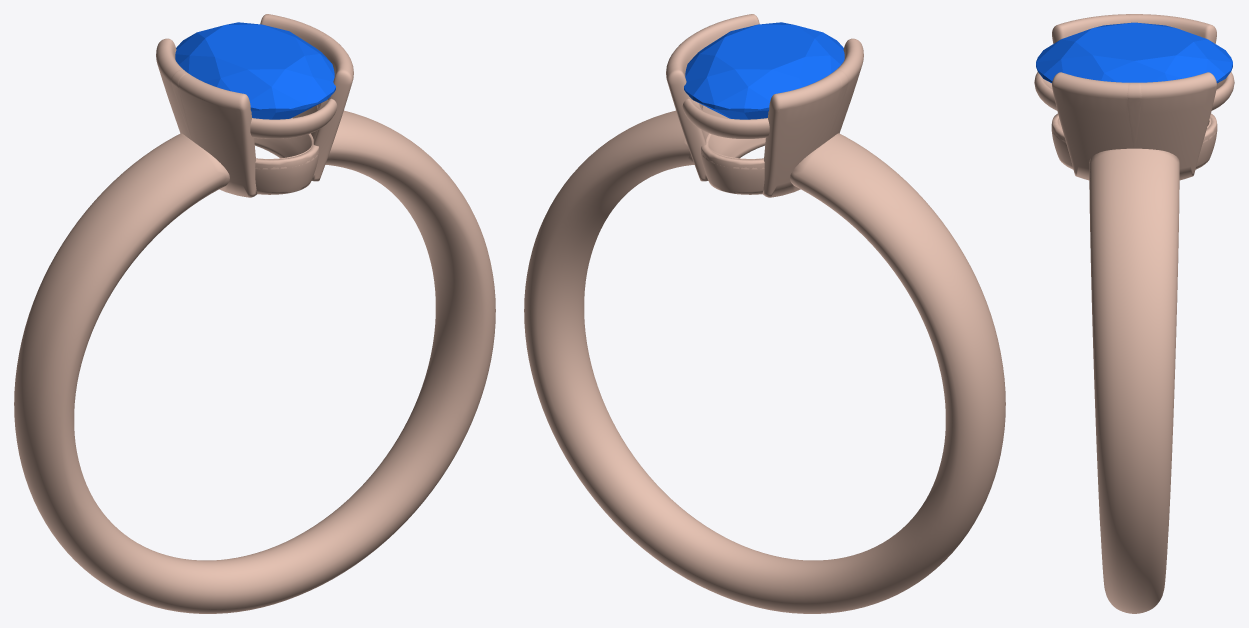
File: bluesapphire-oval-rosegold-halfmoonbezel-taperedband-nosidestones.glb
3 views of the same model, side by side, from view 1: azimuth 30°, elevation 25°; view 2: azimuth 150°, elevation 25°; view 3: azimuth 270°, elevation 25° (orthographic).
Visible parts, largest first — view 1: metal, stone; view 2: metal, stone; view 3: metal, stone.
Boxes of the visible parts, left/top/right/bottom form: metal: left=14, top=14, right=495, bottom=613; stone: left=175, top=22, right=335, bottom=119; metal: left=524, top=14, right=1005, bottom=613; stone: left=684, top=22, right=844, bottom=119; metal: left=1034, top=14, right=1234, bottom=613; stone: left=1036, top=22, right=1232, bottom=83.
Bounding box in the file's own units: 20.5 × 23.4 × 7.75.
